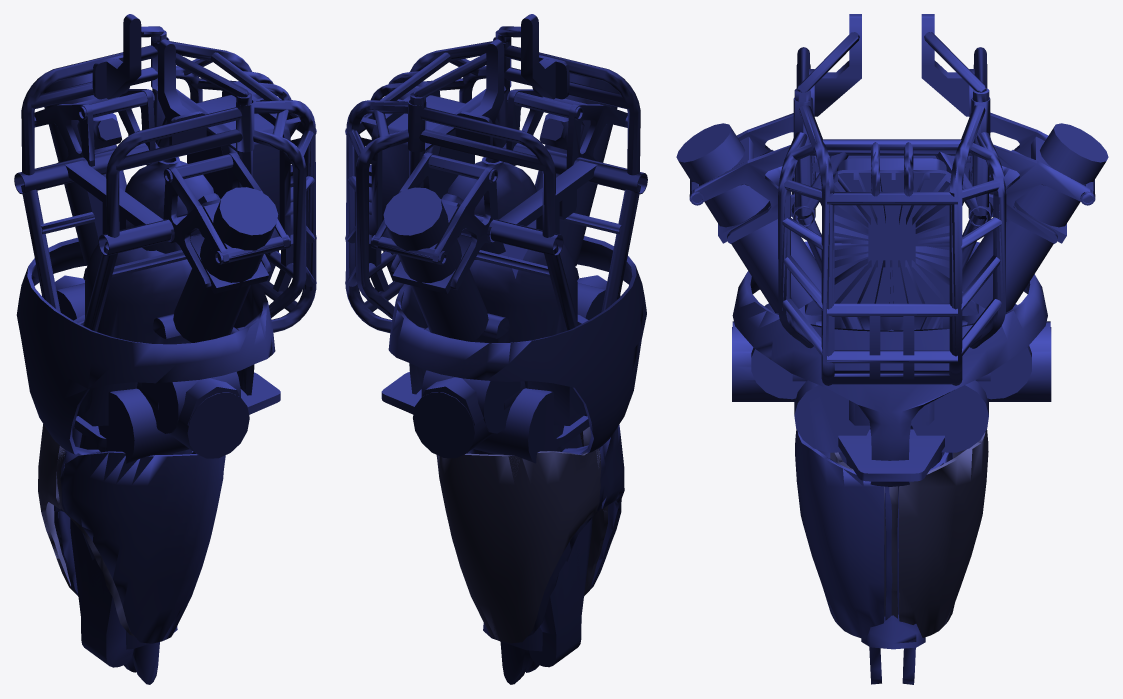
Rendered from atlas.DAE.
3 views of the same model, side by side, from view 1: azimuth 30°, elevation 25°; view 2: azimuth 150°, elevation 25°; view 3: azimuth 270°, elevation 25° (orthographic). The views are drawn at different scales.
Visible parts, largest first — view 1: atlas_chassis_1_f0_1, p1474, p417_3, p15347, p11712, p16626, p19868_4, p1125, p16940, Cylinder003, p18200, p2498 (+5 smaller); view 2: atlas_chassis_1_f0_1, p16940, p417_3, p15347, p11712, p20688, p19868_1, p1474, p1125, p18200, Cylinder003_f0_3, p18612 (+6 smaller); view 3: atlas_chassis_1_f0_1, p417_3, p1474, p16940, p11712, p16626, p20688, p16323, p18612, p2498, p2626, p19868_1 (+6 smaller).
Boxes of the visible parts, box(x1,y1,x2,y2) form: atlas_chassis_1_f0_1: box(14, 37, 316, 342); p1474: box(54, 428, 225, 643); p417_3: box(16, 237, 275, 454); p15347: box(83, 244, 191, 344); p11712: box(92, 14, 251, 145); p16626: box(98, 388, 189, 463); p19868_4: box(152, 392, 249, 458); p1125: box(82, 444, 174, 667); p16940: box(38, 424, 134, 636); Cylinder003: box(77, 378, 239, 426); p18200: box(70, 434, 106, 662); p2498: box(136, 371, 240, 433); atlas_chassis_1_f0_1: box(345, 37, 647, 341); p16940: box(436, 427, 608, 643); p417_3: box(388, 236, 646, 454); p15347: box(469, 243, 579, 343); p11712: box(410, 14, 569, 145); p20688: box(473, 388, 564, 463); p19868_1: box(413, 392, 509, 458); p1474: box(466, 424, 624, 636); p1125: box(555, 434, 592, 663); p18200: box(488, 446, 579, 667); Cylinder003_f0_3: box(422, 377, 583, 425); p18612: box(421, 370, 525, 433); atlas_chassis_1_f0_1: box(676, 47, 1108, 385); p417_3: box(732, 241, 1047, 486); p1474: box(795, 429, 952, 639); p16940: box(830, 429, 988, 637); p11712: box(794, 14, 989, 116); p16626: box(794, 380, 870, 452); p20688: box(912, 380, 988, 452); p16323: box(839, 429, 944, 481); p18612: box(962, 304, 1031, 399); p2498: box(751, 303, 821, 399); p2626: box(846, 428, 942, 649); p19868_1: box(989, 327, 1051, 401).
Size of the model in its own units: 0.341 by 0.5095 by 0.8777.
